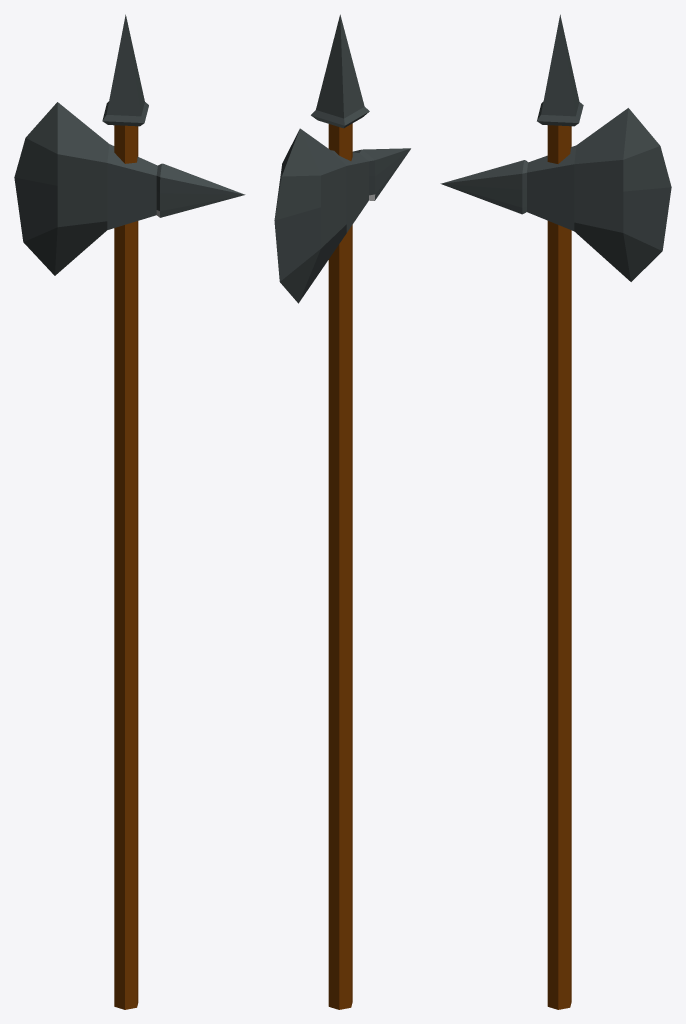
File: Axe3.fbx
3 views of the same model, side by side, from view 1: azimuth 90°, elevation 25°; view 2: azimuth 150°, elevation 25°; view 3: azimuth 270°, elevation 25° (orthographic).
Visible parts, largest first — view 1: Cylinder.014; view 2: Cylinder.014; view 3: Cylinder.014.
Boxes of the visible parts, x1=… form: Cylinder.014: x1=14, y1=14, x2=245, y2=1009; Cylinder.014: x1=274, y1=14, x2=410, y2=1009; Cylinder.014: x1=440, y1=14, x2=671, y2=1009.
Size of the model in its own units: 0.0959 by 0.4101 by 1.94.
